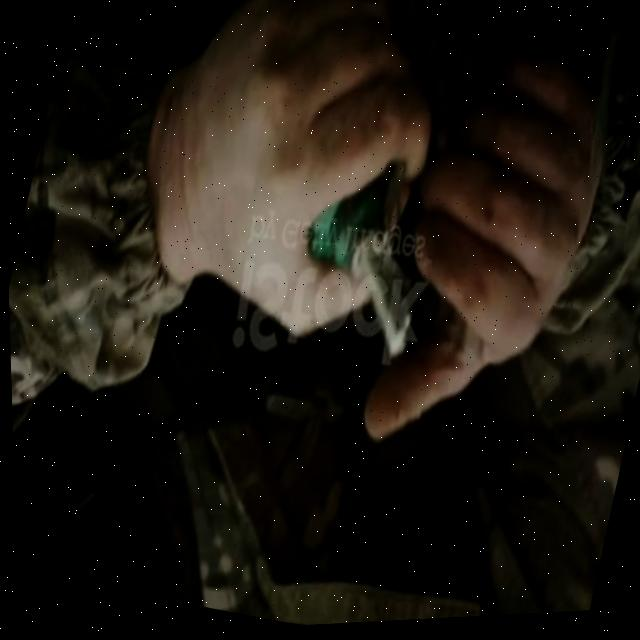grenade: (287, 154, 452, 380)
